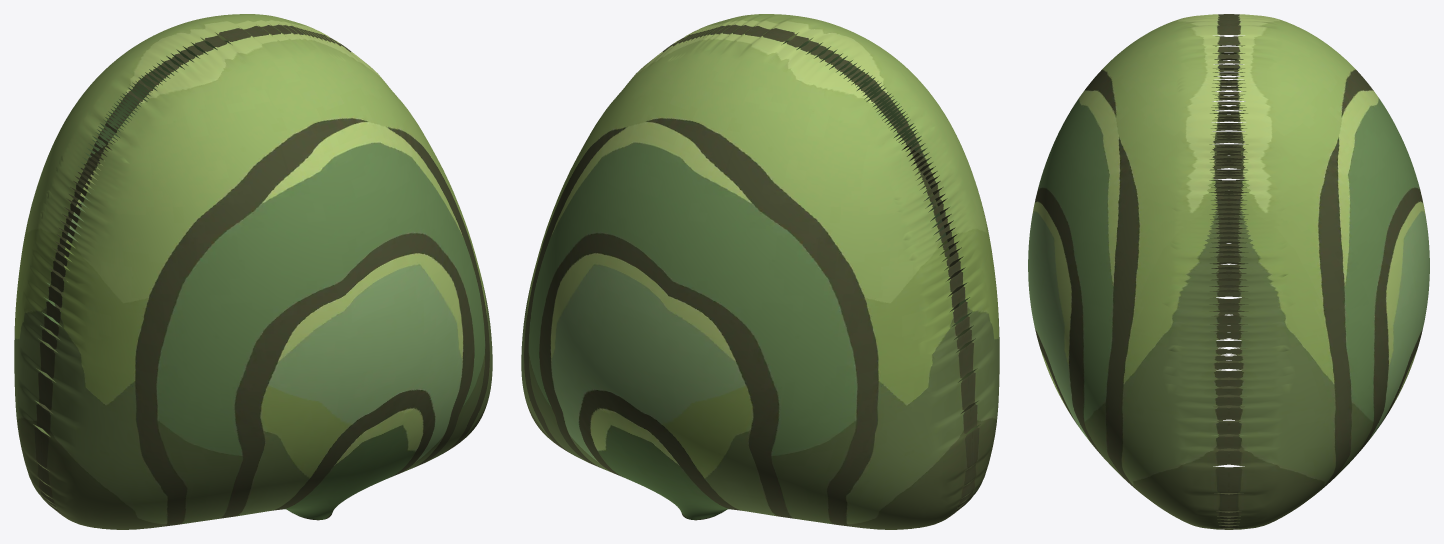
File: green_oval_stone.glb
3 renders of one model, left to right at view 1: azimuth 30°, elevation 25°; view 2: azimuth 150°, elevation 25°; view 3: azimuth 270°, elevation 25°, orthographic. The views are drawn at different scales.
Parts seen in each view (by area): view 1: green_oval_stone; view 2: green_oval_stone; view 3: green_oval_stone.
Boxes of the visible parts, left/top/right/bottom form: green_oval_stone: left=14, top=14, right=492, bottom=529; green_oval_stone: left=521, top=14, right=999, bottom=529; green_oval_stone: left=1028, top=14, right=1429, bottom=529.
Bounding box in the file's own units: 0.9888 × 1 × 0.8713.
Materials: 1 (1 with a texture image).
